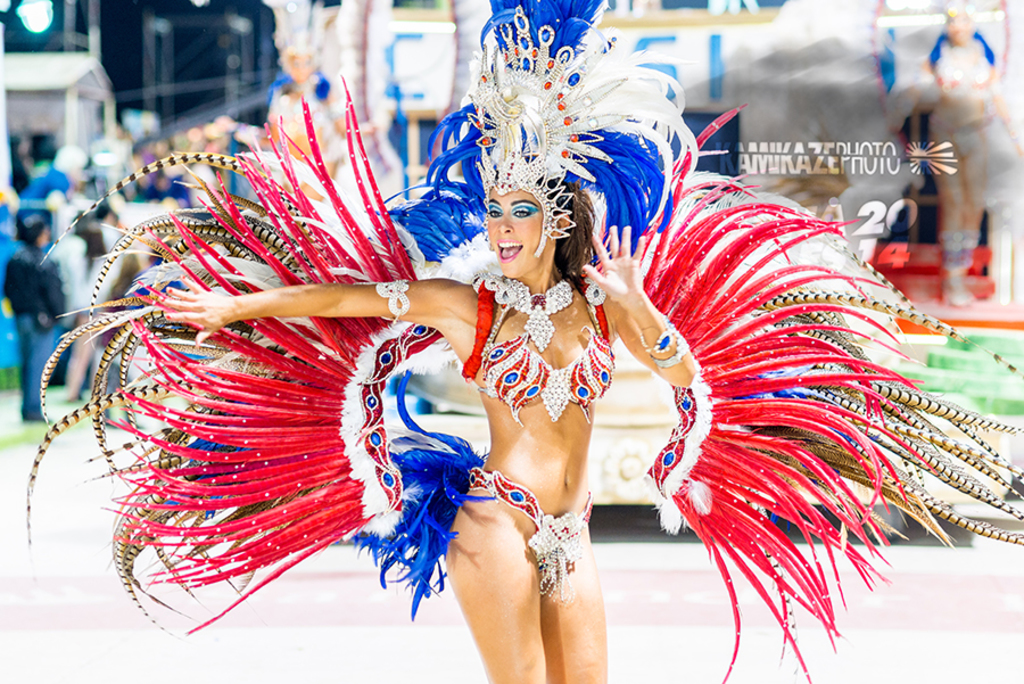person: (1, 213, 68, 424)
